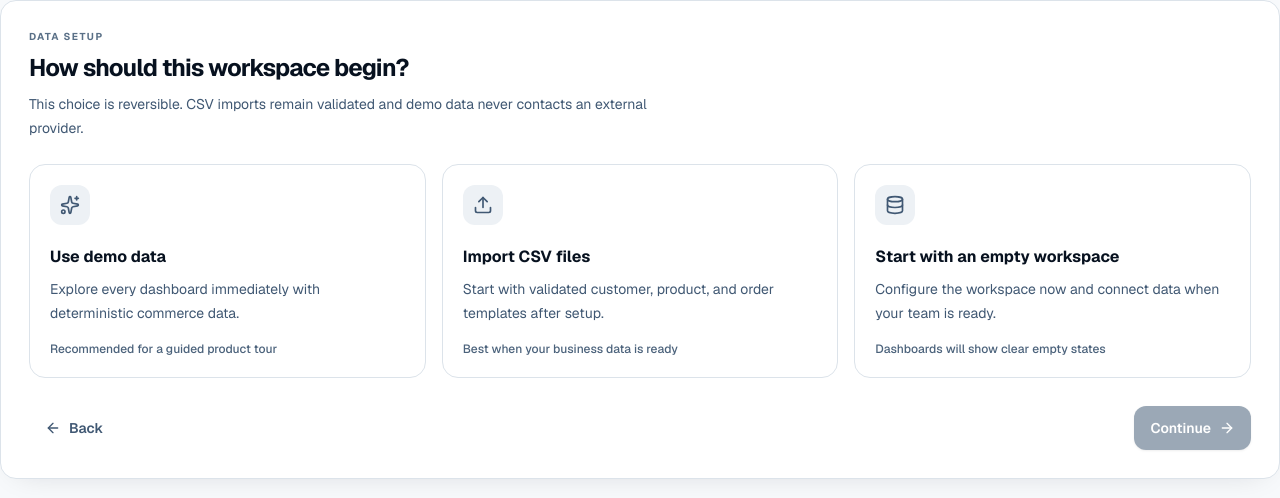
Test: administration page controls › requires an onboarding data choice before continuing
Expected: the button "Continue" is disabled, top-left (1134, 406), bottom-right (1251, 450)
Click the radio button labelled "Use demo data" at (70, 205), box top-left (29, 164), bottom-right (426, 378)
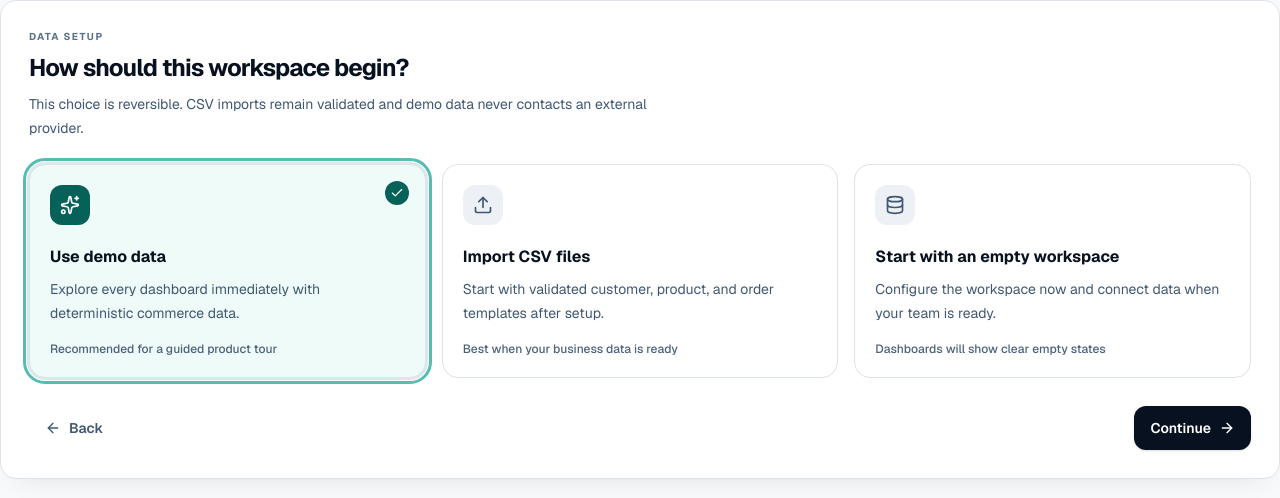
Expected: the button "Continue" is enabled, top-left (1134, 406), bottom-right (1251, 450)
